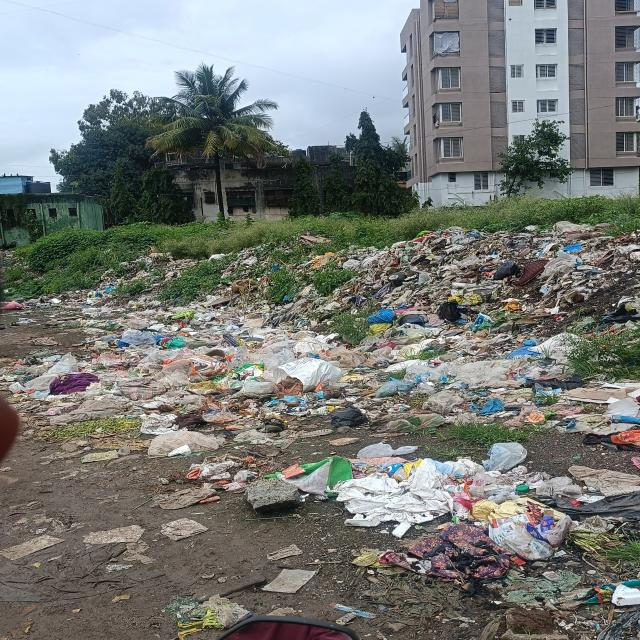garbage: (287, 234, 640, 608), (20, 246, 279, 452)
